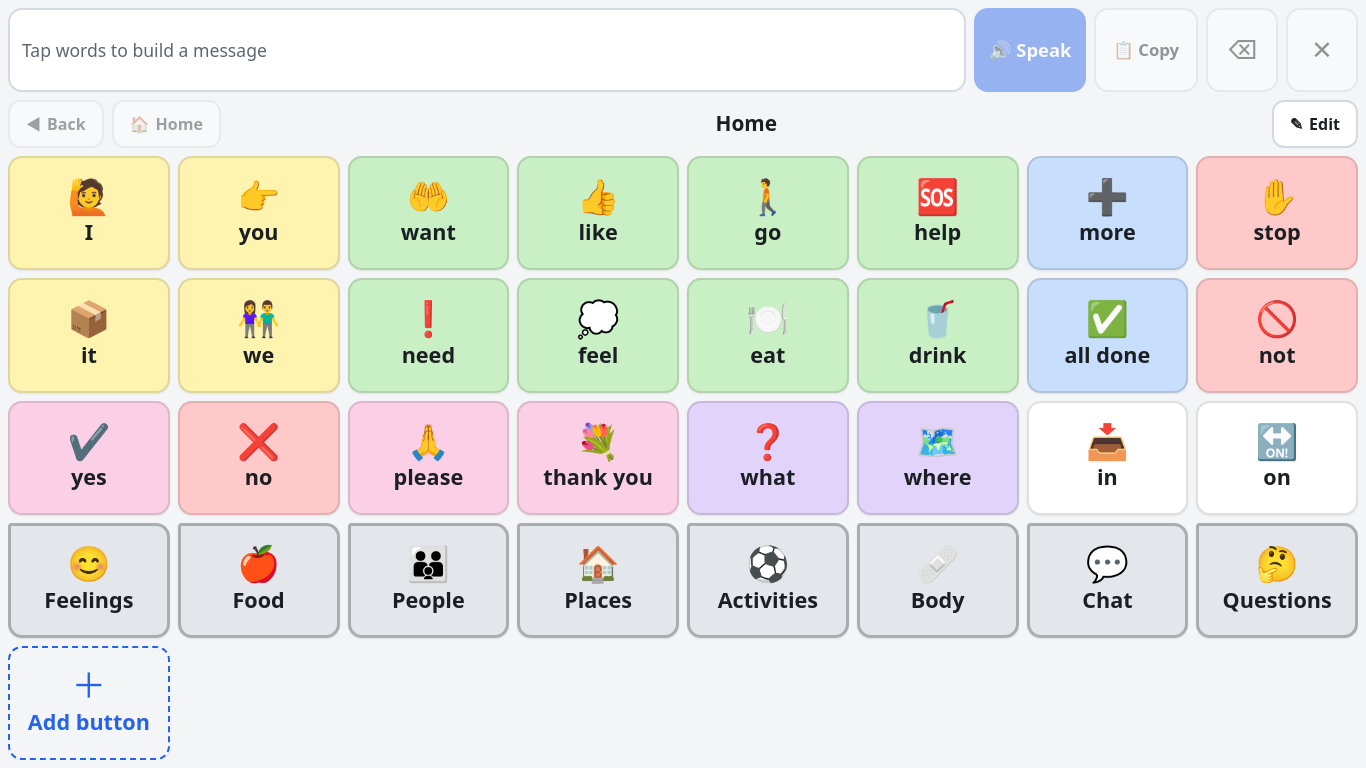
Test case: App › Add button on the Home board › can be hidden from Home in Settings, but still shows in edit mode
expect the button "＋ Add button" is shown: met, box 8,646 -> 170,760
Click the button "✎ Edit". click: (1315, 124)
box: 1272,100 -> 1358,148
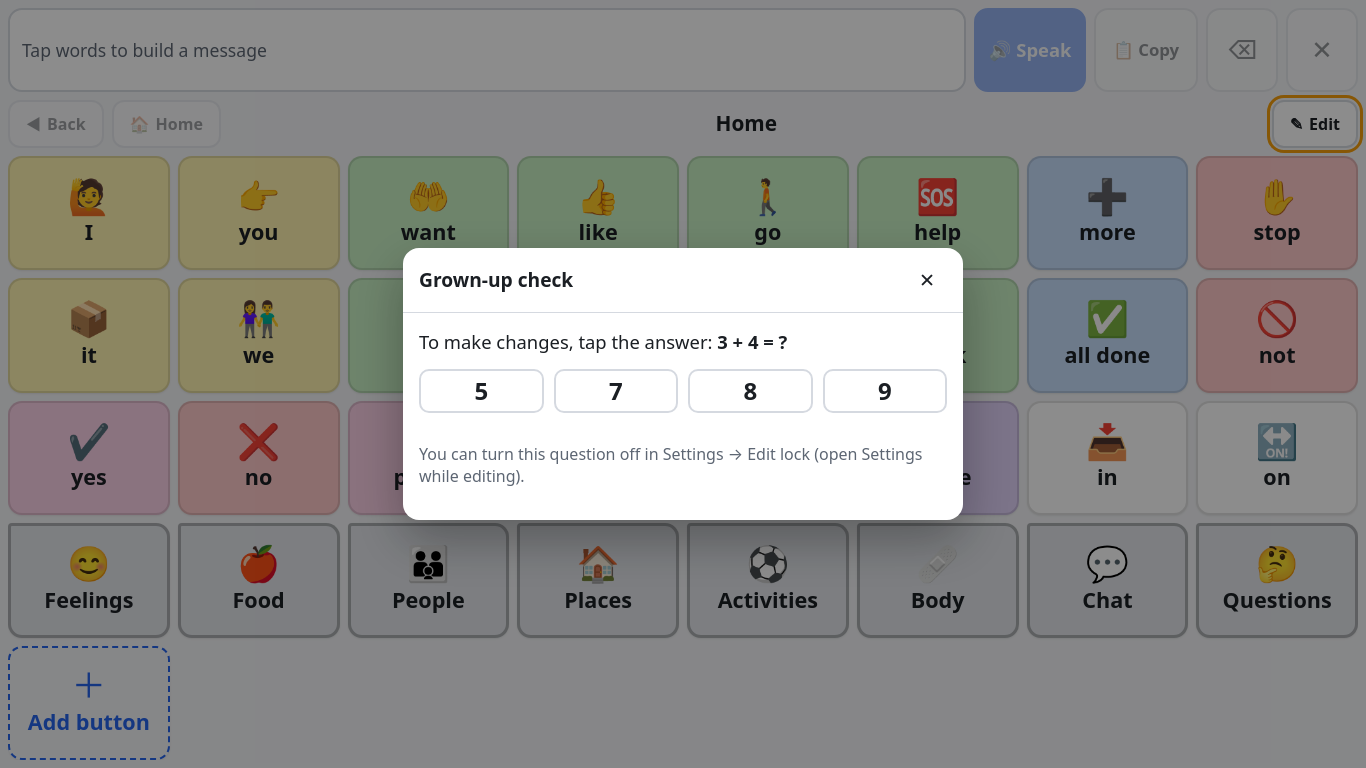
Click the button "7". click: (616, 391)
box: 554,369 -> 678,413
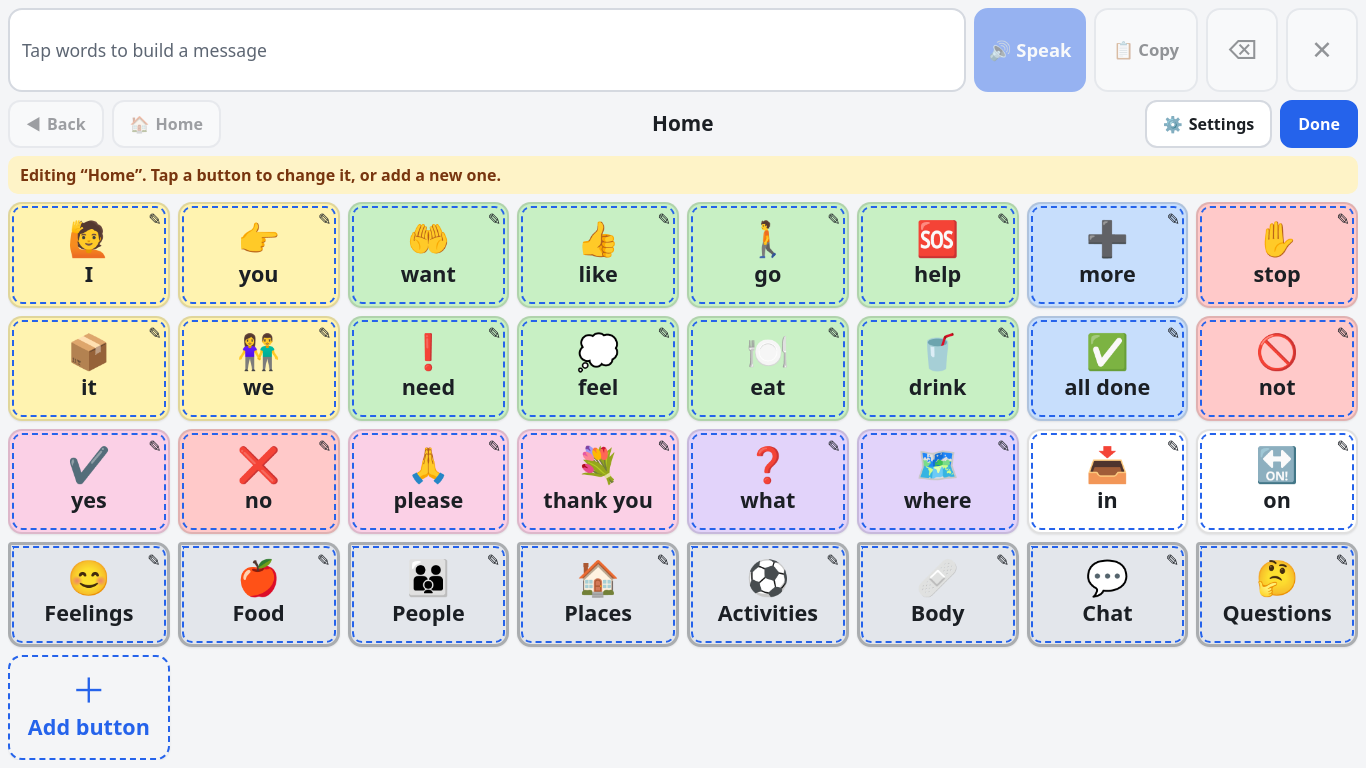
Click the button "⚙️ Settings". click: (1208, 124)
box: 1145,100 -> 1272,148
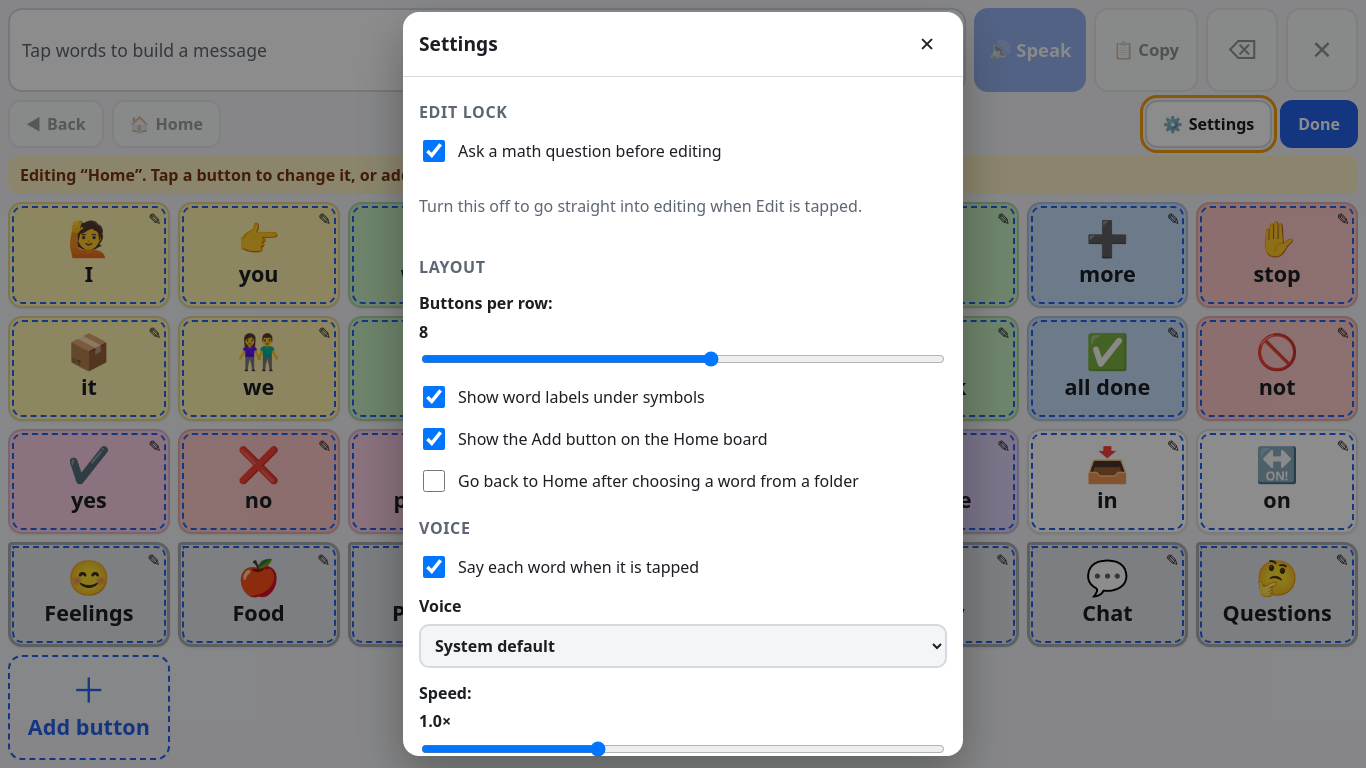
expect the checkbox labelled "Show the Add button on the Home board" is checked: met
Click the checkbox labelled "Show the Add button on the Home board". click: (434, 439)
box: 423,428 -> 445,450
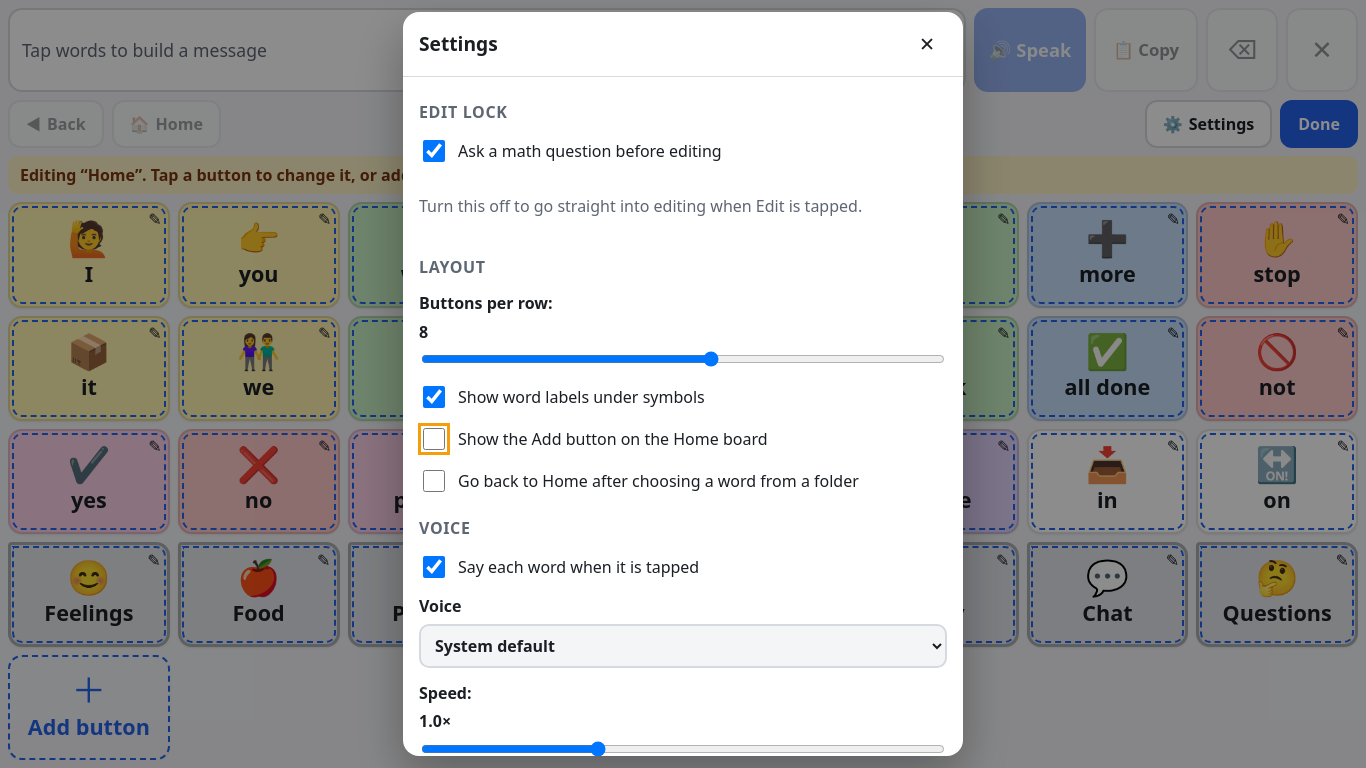
Click the button named "Close". click: (927, 44)
box: 907,24 -> 947,64
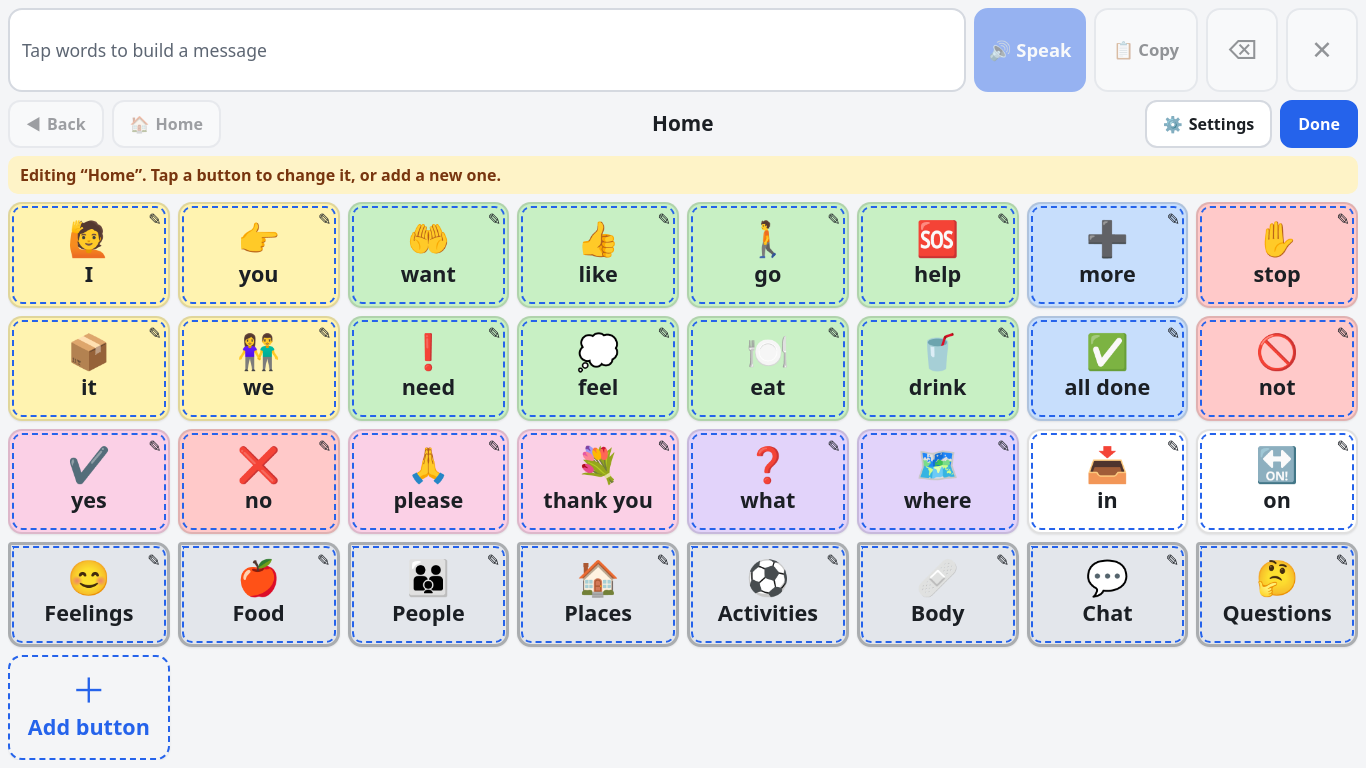
expect the button "＋ Add button" is shown: met, box 8,655 -> 170,760
Click the button "Done". click: (1319, 124)
box: 1280,100 -> 1358,148
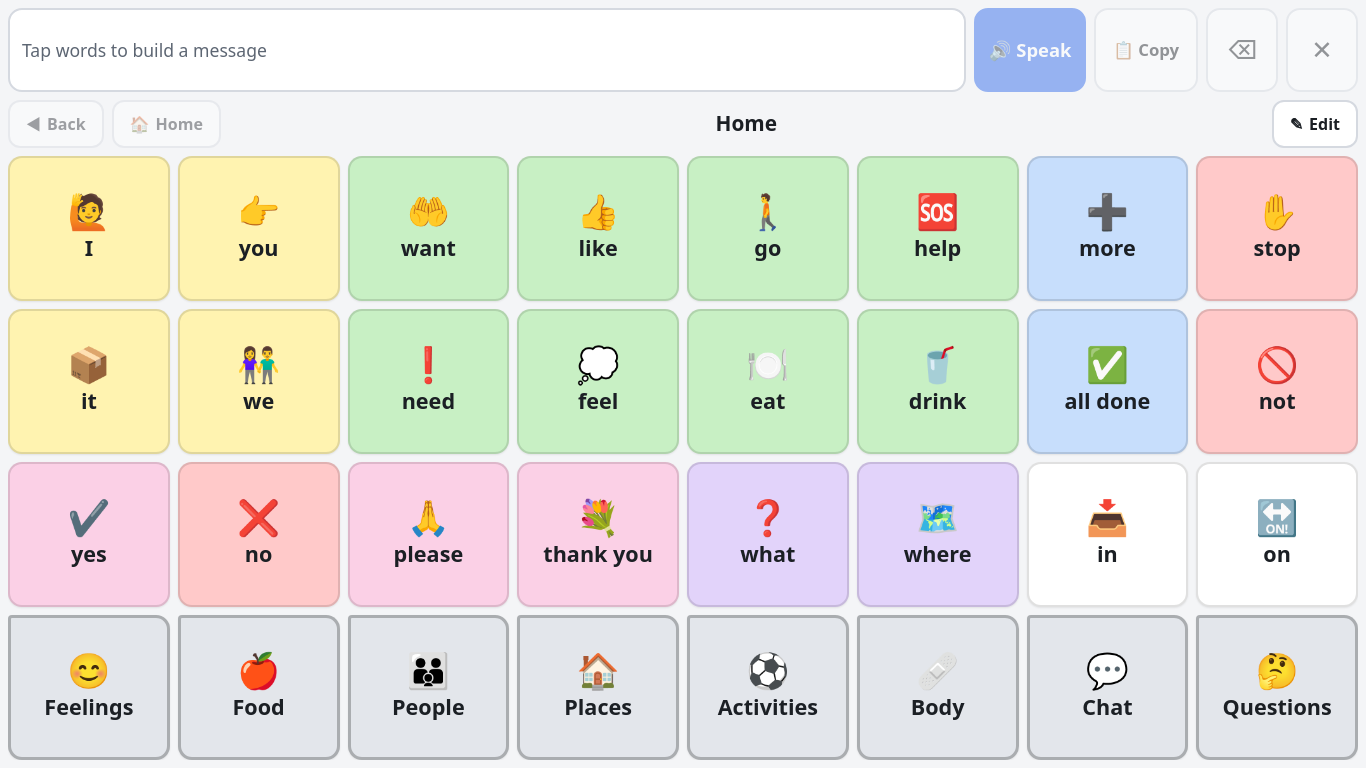
expect the button "Add button" is gone: met
